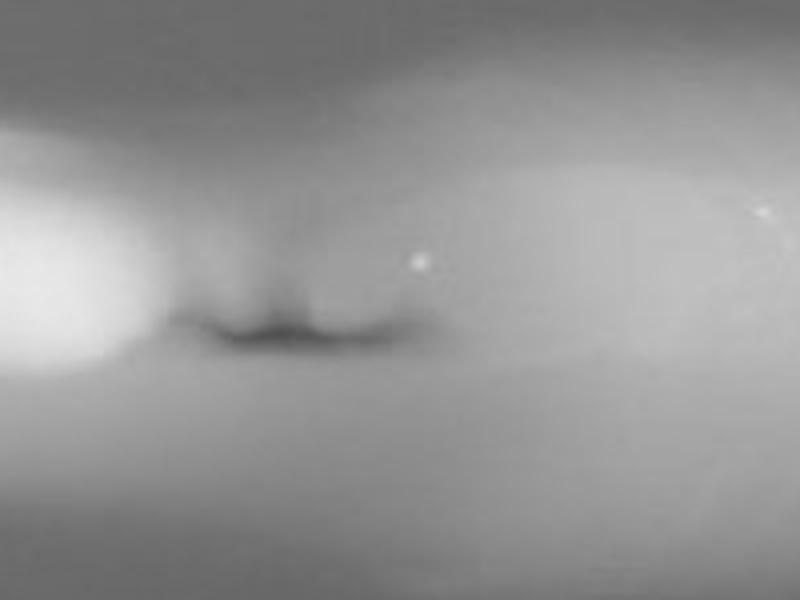defect: (230, 313, 356, 354)
